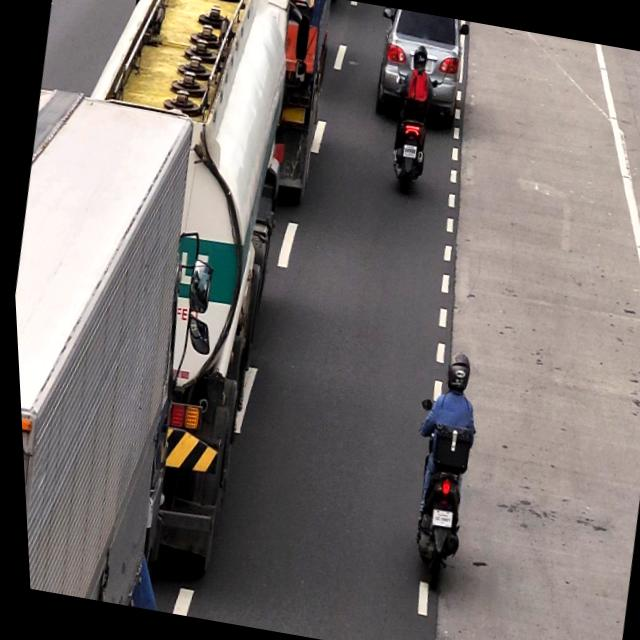Car: (368, 7, 474, 122)
License-Plate: (423, 506, 448, 530), (398, 140, 418, 162)
Motorcycle: (390, 353, 493, 597), (380, 38, 444, 192)
Truck: (12, 0, 353, 586), (4, 96, 212, 607)
